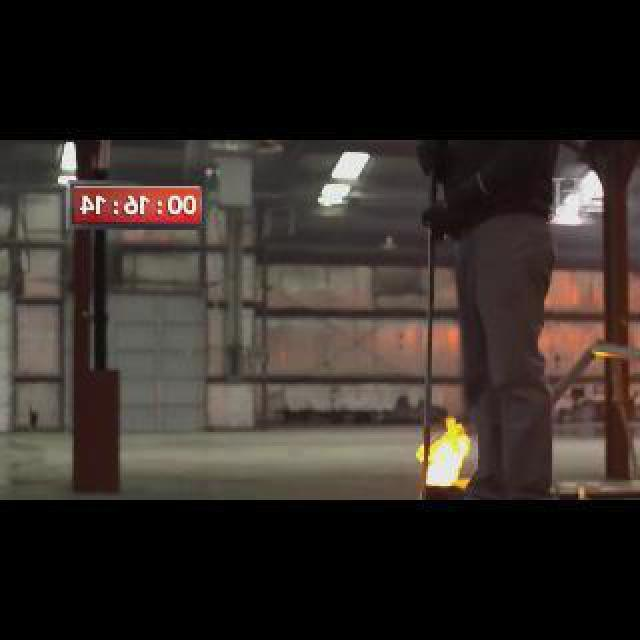fire: (412, 418, 474, 488)
